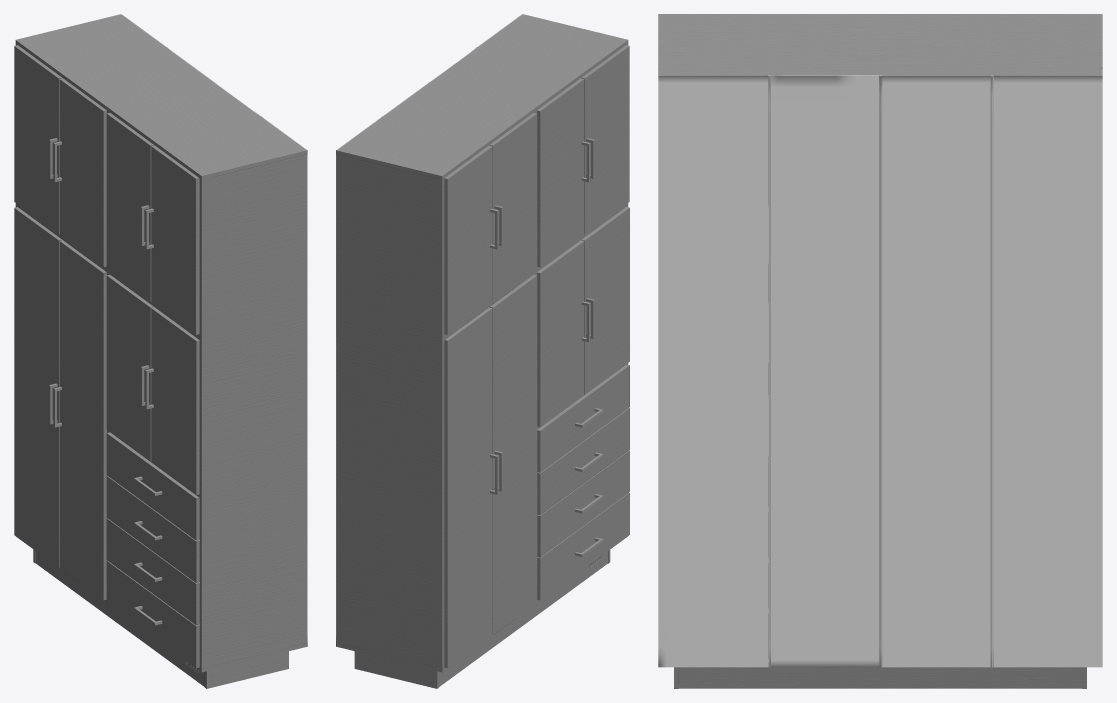
The model's file is closet.glb.
The picture shows the model from 3 angles, left to right: view 1: azimuth 30°, elevation 25°; view 2: azimuth 150°, elevation 25°; view 3: azimuth 270°, elevation 25°; orthographic projection. The views are drawn at different scales.
Visible parts, largest first — view 1: Closet, Large Door 2, Large Door 1, Door 4, Door 6, Door 2, Door 1, Door 3, Door 5, Drawer 1, Drawer 4, Drawer 3 (+1 smaller); view 2: Closet, Large Door 1, Large Door 2, Door 1, Door 3, Door 5, Door 4, Door 2, Door 6, Drawer 1, Drawer 4, Drawer 3 (+1 smaller); view 3: Closet, Wood fillers.
Boxes of the visible parts, x1,y1,x2,y2 form: Closet: [15, 14, 307, 688]; Large Door 2: [53, 240, 106, 600]; Large Door 1: [14, 207, 61, 567]; Door 4: [145, 145, 199, 334]; Door 6: [145, 307, 199, 494]; Door 2: [53, 78, 106, 266]; Door 1: [14, 45, 61, 234]; Door 3: [106, 113, 154, 301]; Door 5: [106, 274, 153, 461]; Drawer 1: [106, 432, 199, 540]; Drawer 4: [106, 560, 199, 668]; Drawer 3: [106, 518, 199, 625]; Closet: [336, 14, 628, 688]; Large Door 1: [444, 307, 498, 667]; Large Door 2: [489, 275, 537, 634]; Door 1: [444, 145, 498, 334]; Door 3: [537, 78, 590, 266]; Door 5: [537, 240, 590, 426]; Door 4: [581, 45, 629, 234]; Door 2: [489, 113, 537, 301]; Door 6: [581, 207, 629, 394]; Drawer 1: [537, 364, 629, 472]; Drawer 4: [537, 493, 629, 600]; Drawer 3: [537, 450, 629, 557]; Closet: [658, 14, 1102, 688]; Wood fillers: [768, 75, 993, 667].
Bounding box in the file's own units: 0.5115 × 2.17 × 1.41.
2 materials, 2 textured.
